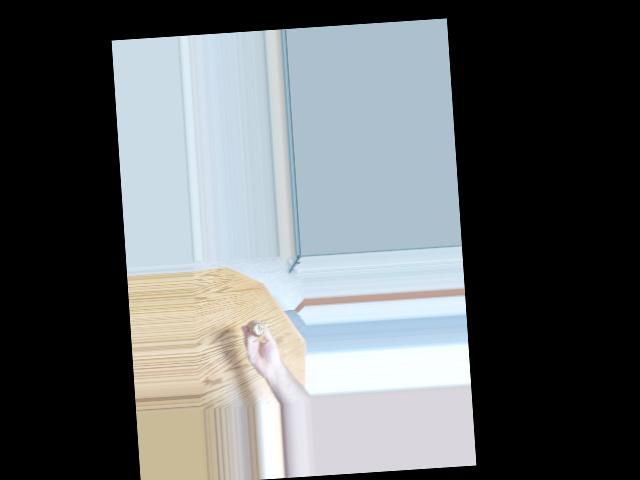sweet_potato: (250, 316, 268, 336)
